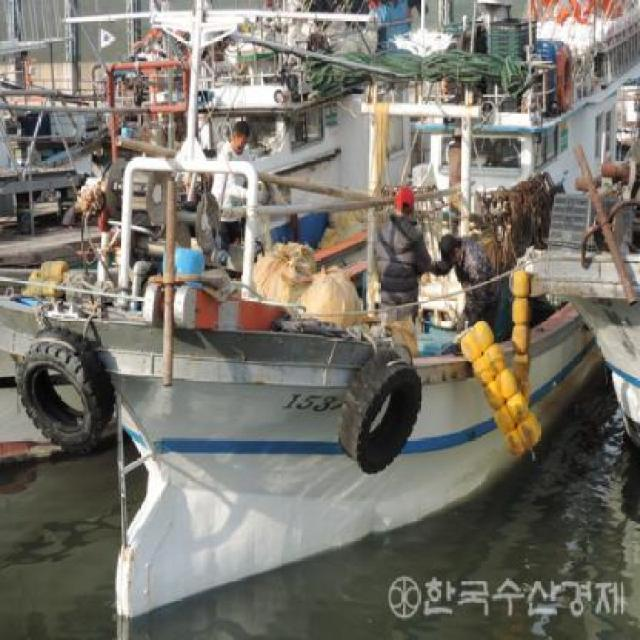fish-b: (1, 143, 629, 627)
